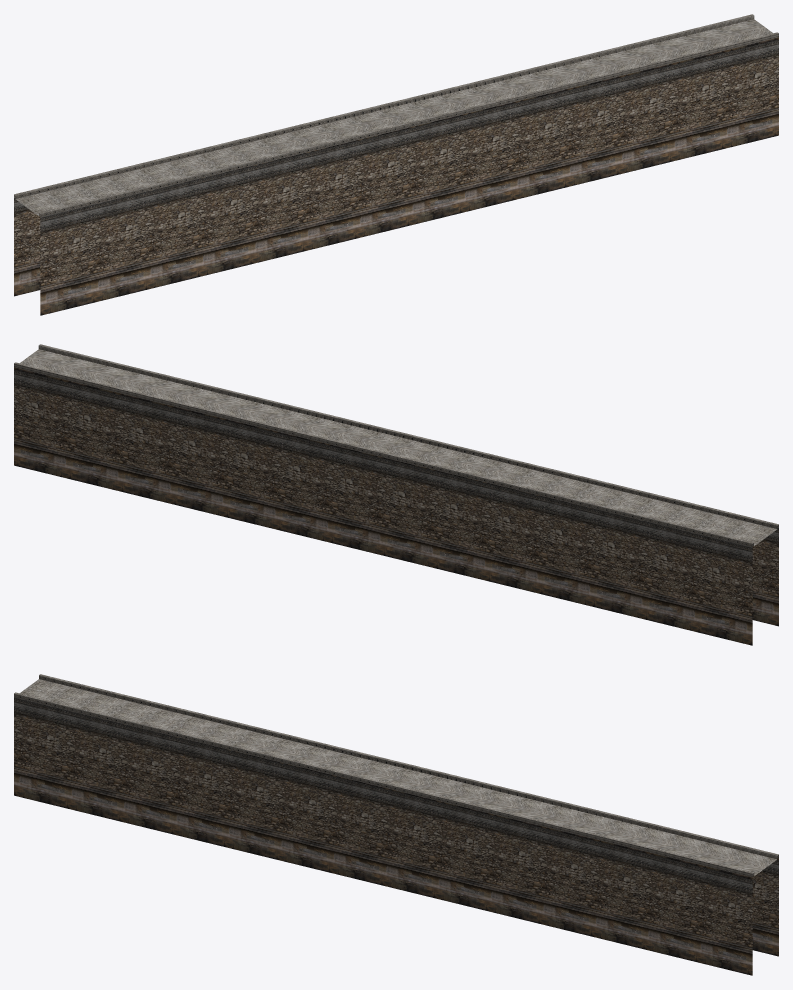
The model's file is auction_gwall01.FBX.
3 renders of one model, top to bottom at view 1: azimuth 30°, elevation 25°; view 2: azimuth 150°, elevation 25°; view 3: azimuth 330°, elevation 25°, orthographic.
Parts seen in each view (by area): view 1: auction_gwall01; view 2: auction_gwall01; view 3: auction_gwall01.
Boxes of the visible parts, x1,y1,x2,y2 form: auction_gwall01: (14, 14, 778, 315); auction_gwall01: (14, 344, 778, 645); auction_gwall01: (14, 674, 778, 975).
Bounding box in the file's own units: 25291 × 3344 × 1567.
Materials: 3 (3 with a texture image).
